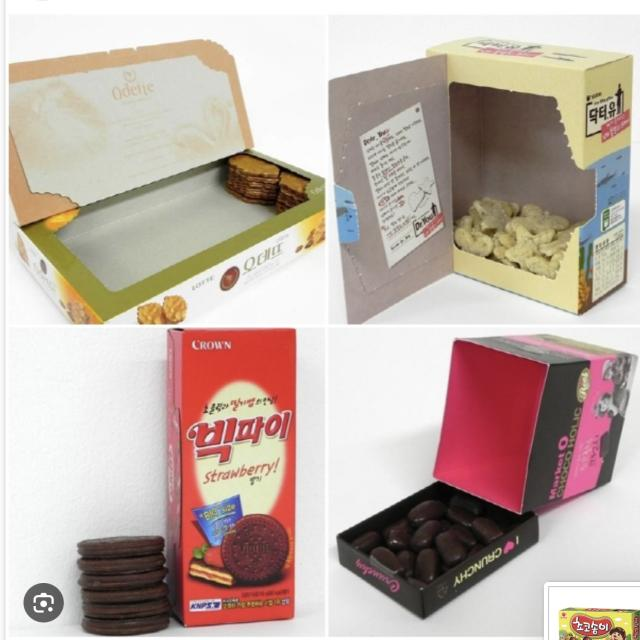biodegradable: (328, 20, 633, 320), (327, 328, 638, 620), (10, 29, 318, 314), (159, 320, 308, 629)
